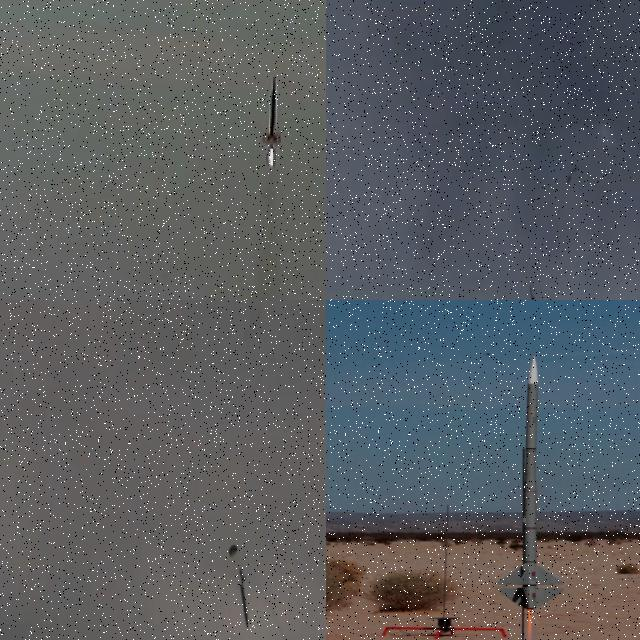Rocket: (496, 354, 566, 612), (262, 76, 282, 148), (528, 285, 535, 300)
